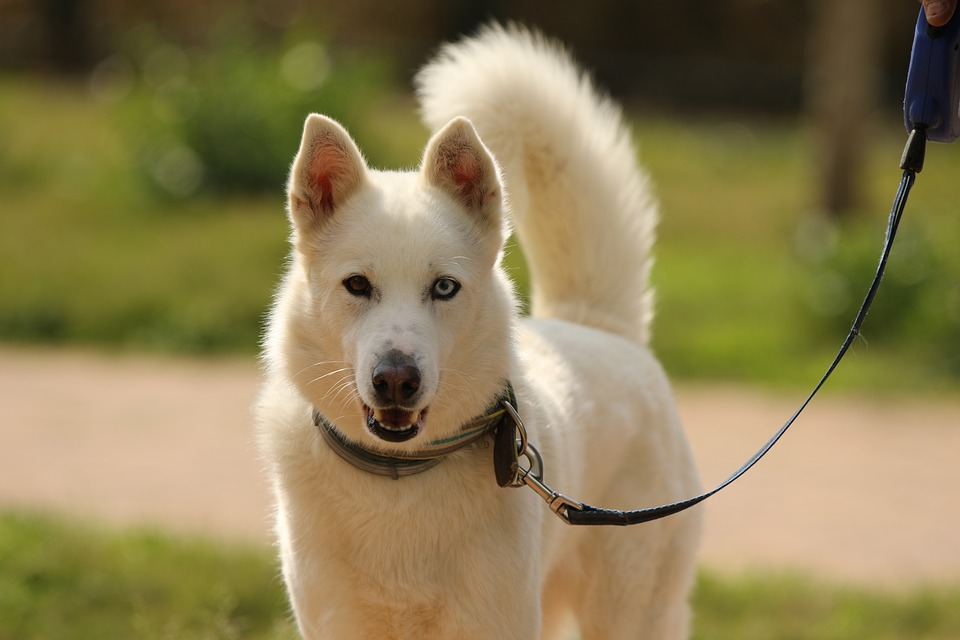husky: (219, 77, 581, 631)
